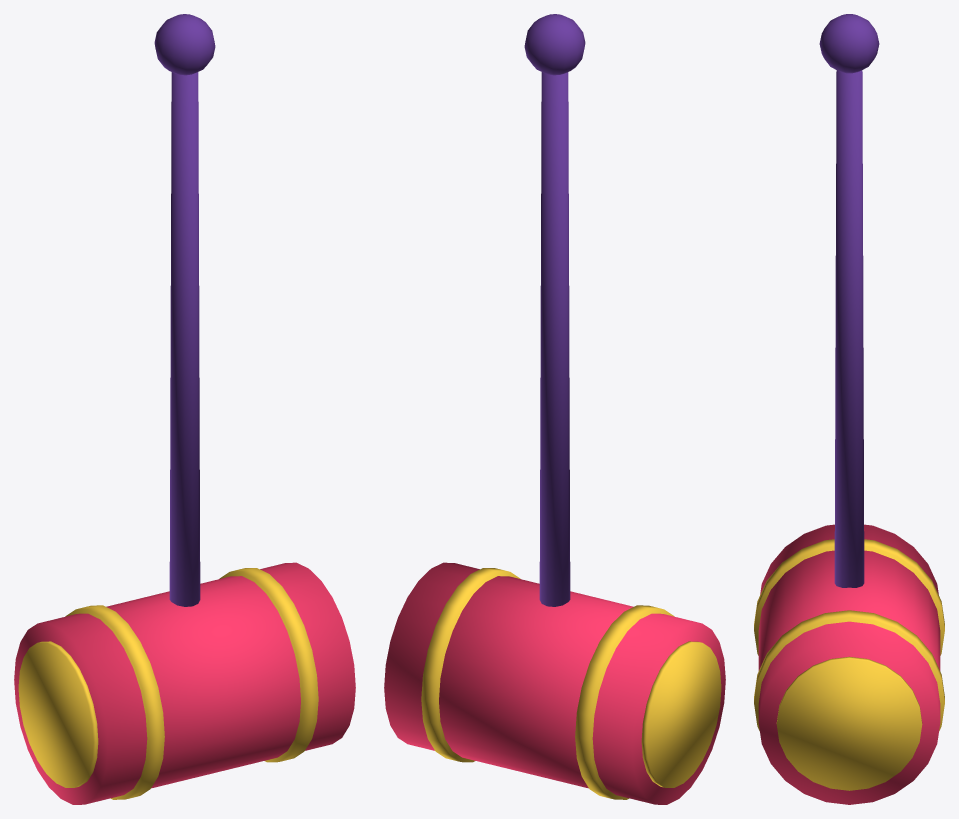
The model's file is prop_hammer_big.glb.
3 renders of one model, left to right at view 1: azimuth 30°, elevation 25°; view 2: azimuth 150°, elevation 25°; view 3: azimuth 270°, elevation 25°, orthographic. The views are drawn at different scales.
Visible parts, largest first — view 1: HammerBig_Head, HammerBig_Handle, HammerBig_Bands; view 2: HammerBig_Head, HammerBig_Handle, HammerBig_Bands; view 3: HammerBig_Head, HammerBig_Bands, HammerBig_Handle.
Part boxes in pixels (x1,y1,x2,y2): HammerBig_Head: [14, 562, 355, 804]; HammerBig_Handle: [154, 14, 215, 606]; HammerBig_Bands: [18, 568, 318, 799]; HammerBig_Head: [384, 562, 725, 804]; HammerBig_Handle: [524, 14, 585, 606]; HammerBig_Bands: [421, 568, 721, 799]; HammerBig_Head: [758, 524, 940, 804]; HammerBig_Bands: [754, 539, 944, 790]; HammerBig_Handle: [819, 14, 879, 587].
Size of the model in its own units: 2.7 by 7.57 by 1.78.
